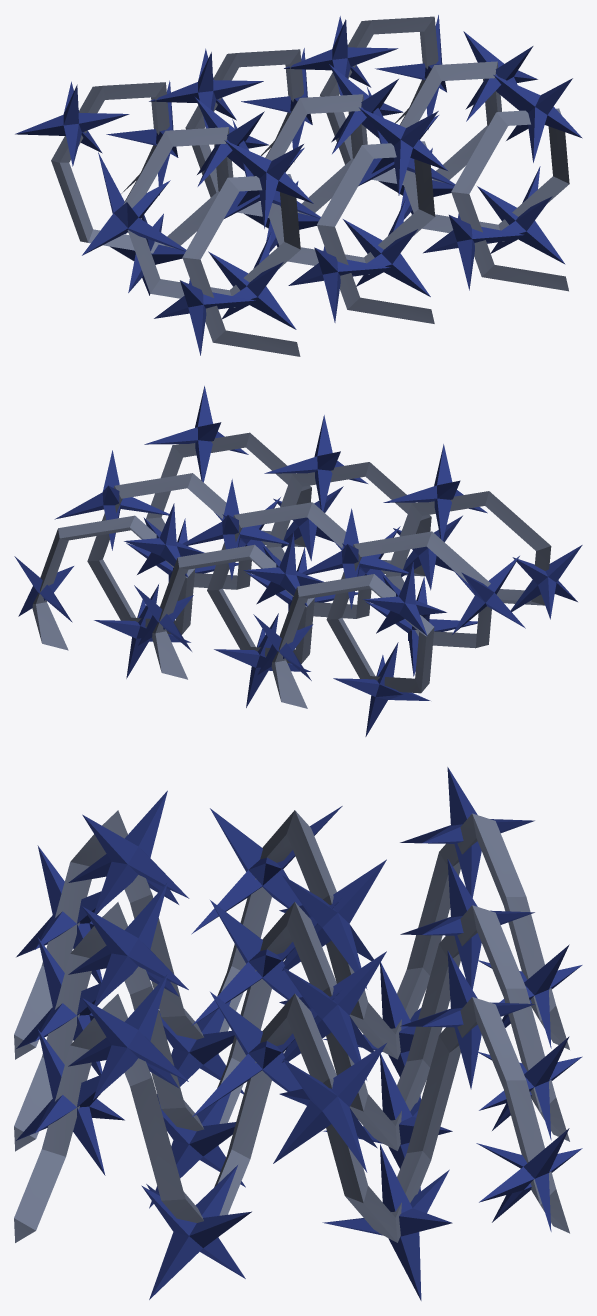
Rendered from NewBarbwire.fbx.
3 views of the same model, one above another, from view 1: azimuth 30°, elevation 25°; view 2: azimuth 150°, elevation 25°; view 3: azimuth 270°, elevation 25° (orthographic). The views are drawn at different scales.
Visible parts, largest first — view 1: Barbwire; view 2: Barbwire; view 3: Barbwire.
Boxes of the visible parts, bbox=[...] form: Barbwire: bbox=[15, 15, 582, 356]; Barbwire: bbox=[14, 386, 582, 736]; Barbwire: bbox=[14, 767, 582, 1300].
Size of the model in its own units: 1.1 by 0.4985 by 0.7865.
1 material, 1 textured.
